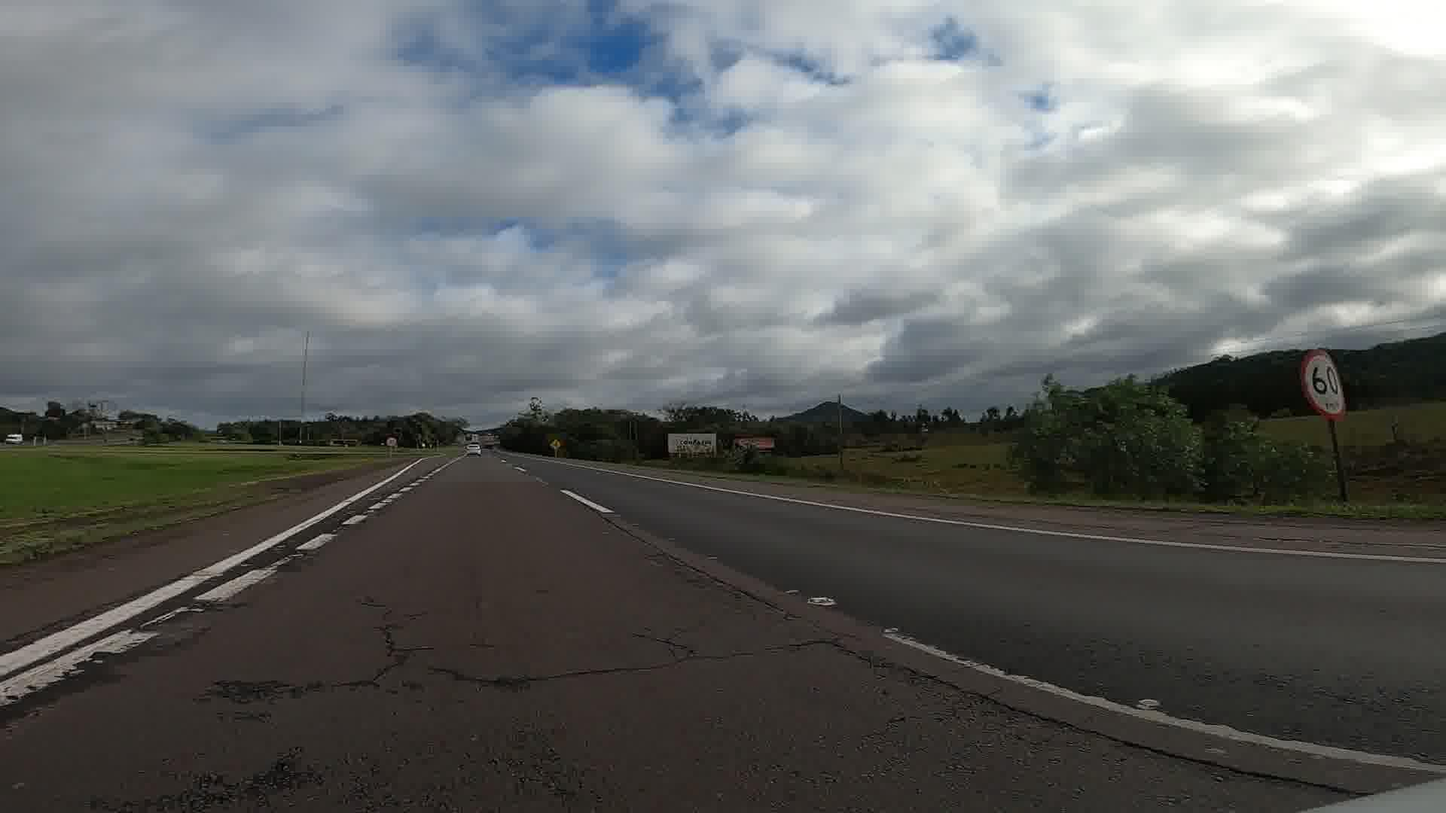R-19: (1301, 347, 1344, 419)
